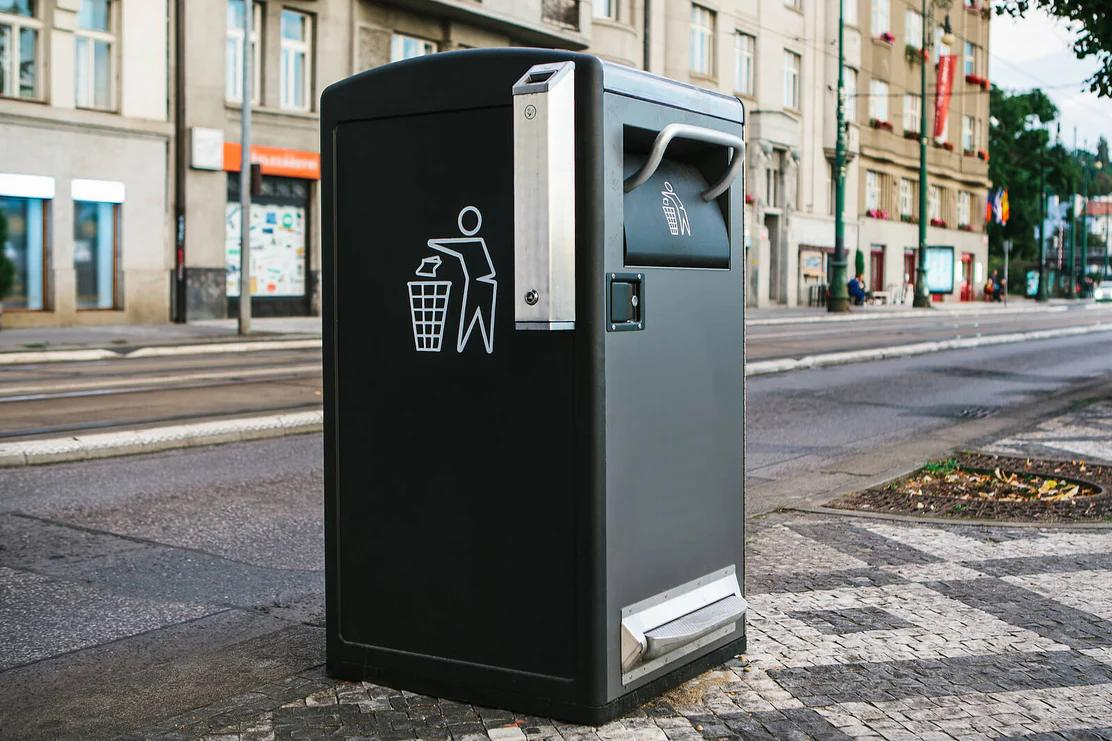trash bin: (301, 45, 771, 731)
